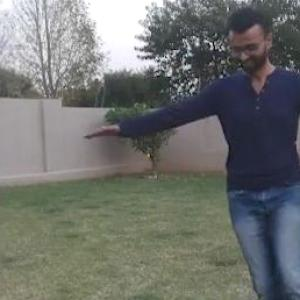land: (142, 29, 300, 299)
